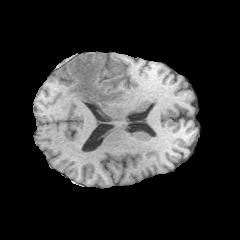glioma: (66, 53, 127, 108)
